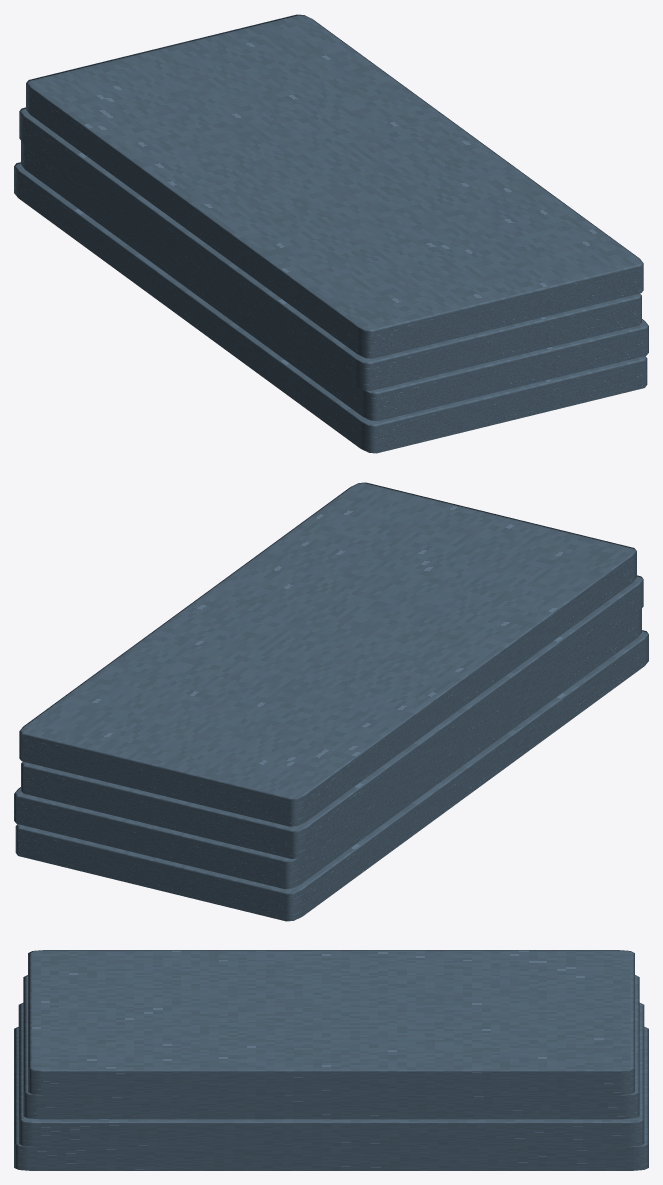
File: wash-gloves.glb
3 renders of one model, top to bottom at view 1: azimuth 30°, elevation 25°; view 2: azimuth 150°, elevation 25°; view 3: azimuth 270°, elevation 25°, orthographic. The views are drawn at different scales.
Visible parts, largest first — view 1: fold (×4); view 2: fold (×4); view 3: fold (×4).
Boxes of the visible parts, bbox=[...] form: fold (×4): bbox=[14, 14, 648, 453]; fold (×4): bbox=[14, 482, 648, 921]; fold (×4): bbox=[14, 950, 648, 1170].
Size of the model in its own units: 0.128 by 0.0495 by 0.2784.
Materials: 1 (1 with a texture image).
